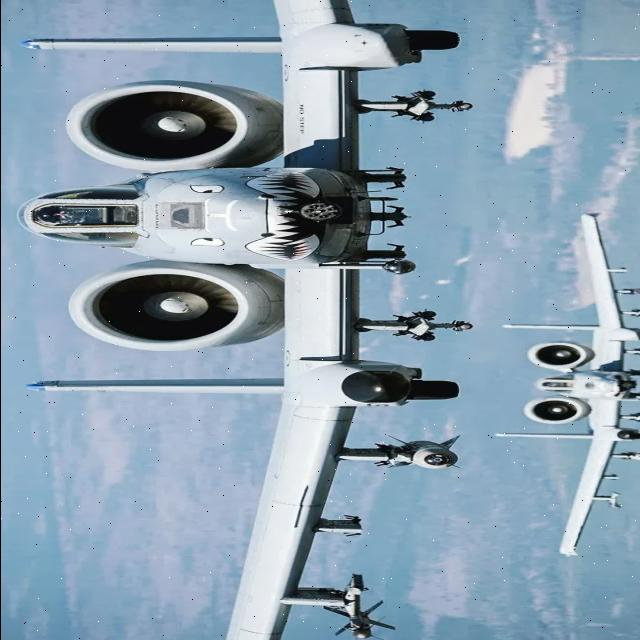A10: (9, 2, 496, 638), (491, 180, 640, 574)
